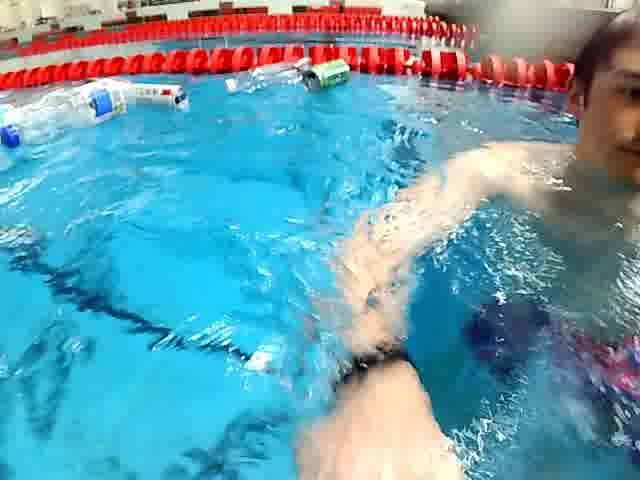Bottle: (0, 74, 141, 152), (219, 60, 306, 99)
Can: (119, 79, 198, 113), (297, 58, 354, 97)
